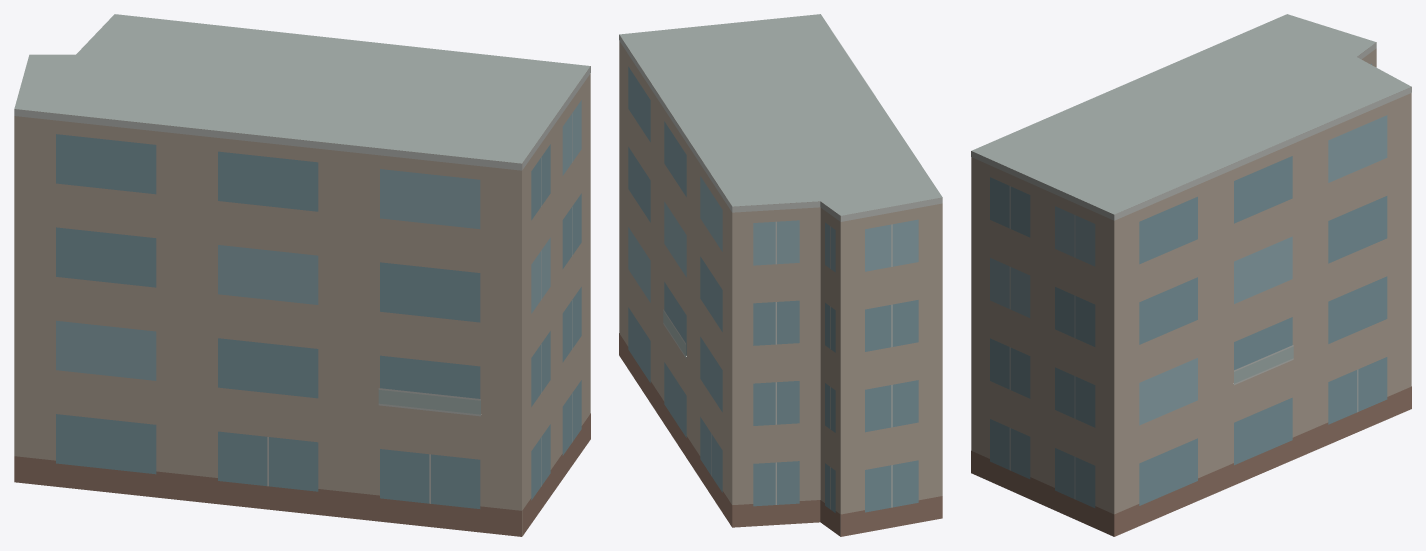
File: survey-upis-32656805.glb
The picture shows the model from 3 angles, left to right: view 1: azimuth 30°, elevation 25°; view 2: azimuth 150°, elevation 25°; view 3: azimuth 270°, elevation 25°; orthographic projection. The views are drawn at different scales.
Parts seen in each view (by area): view 1: survey-upis-32656805.tmp; view 2: survey-upis-32656805.tmp; view 3: survey-upis-32656805.tmp.
Part boxes in pixels (x1,y1,x2,y2): survey-upis-32656805.tmp: (14,14,590,536); survey-upis-32656805.tmp: (619,14,942,536); survey-upis-32656805.tmp: (971,14,1411,536).
Bounding box in the file's own units: 17.23 × 12.9 × 15.99.
